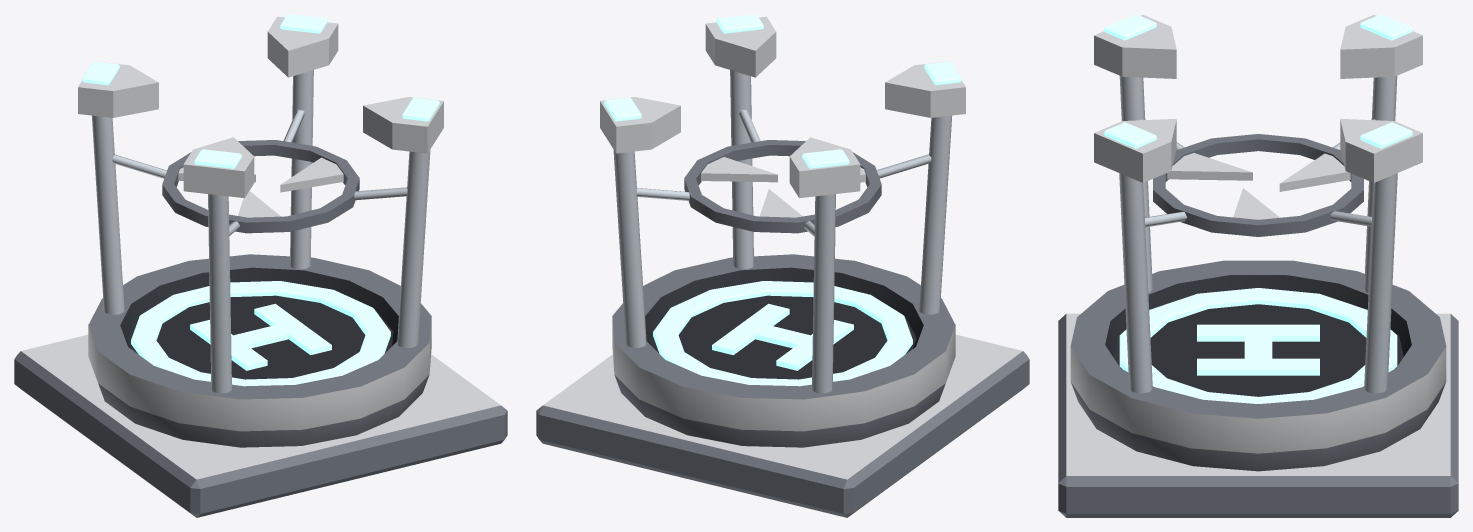
The model's file is R4X_FlyingDroneDeployer_LOD1.fbx.
3 renders of one model, left to right at view 1: azimuth 30°, elevation 25°; view 2: azimuth 150°, elevation 25°; view 3: azimuth 270°, elevation 25°, orthographic. The views are drawn at different scales.
Parts seen in each view (by area): view 1: R4X_FlyingDroneDeployer_LOD1; view 2: R4X_FlyingDroneDeployer_LOD1; view 3: R4X_FlyingDroneDeployer_LOD1.
Boxes of the visible parts, <box> form: R4X_FlyingDroneDeployer_LOD1: <box>14,14,507,517</box>; R4X_FlyingDroneDeployer_LOD1: <box>536,14,1029,517</box>; R4X_FlyingDroneDeployer_LOD1: <box>1058,14,1458,517</box>.
Bounding box in the file's own units: 0.52 × 0.513 × 0.52.
